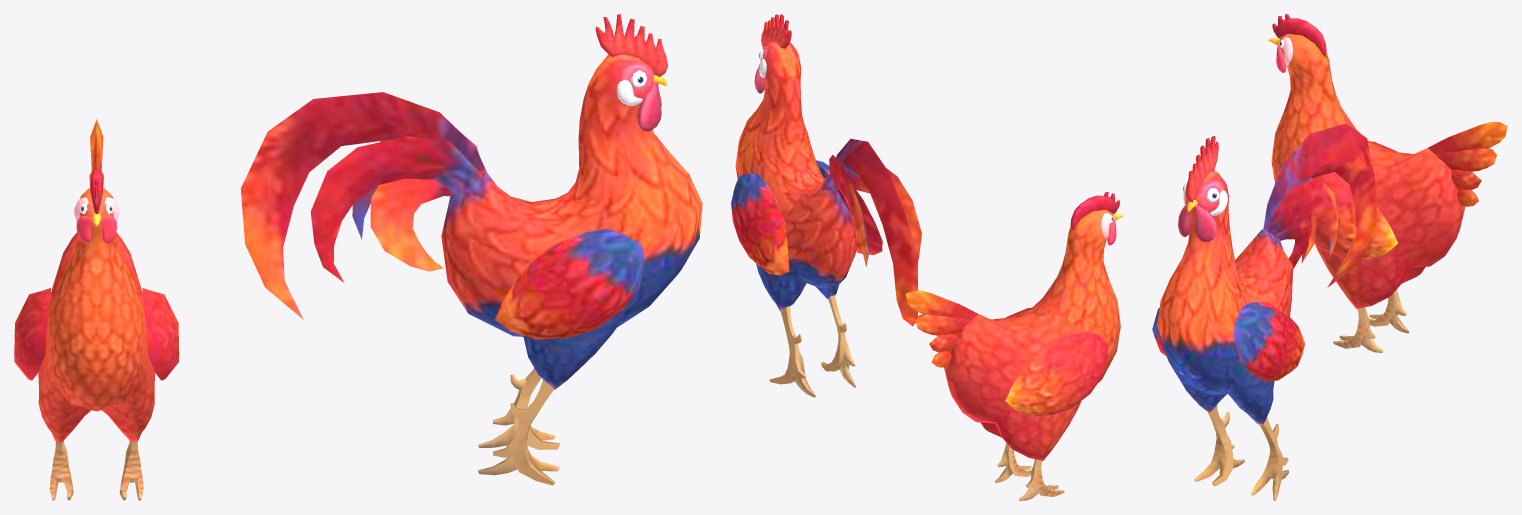
File: handpainted_rooster_and_hen_game.glb
3 renders of one model, left to right at view 1: azimuth 30°, elevation 25°; view 2: azimuth 150°, elevation 25°; view 3: azimuth 270°, elevation 25°, orthographic. The views are drawn at different scales.
Parts seen in each view (by area): view 1: Object_2; view 2: Object_2; view 3: Object_2.
Boxes of the visible parts, left/top/right/bottom form: Object_2: left=14, top=14, right=702, bottom=500; Object_2: left=731, top=14, right=1123, bottom=500; Object_2: left=1152, top=14, right=1507, bottom=500.
Bounding box in the file's own units: 67.5 × 50.31 × 43.42.
Materials: 1 (1 with a texture image).
